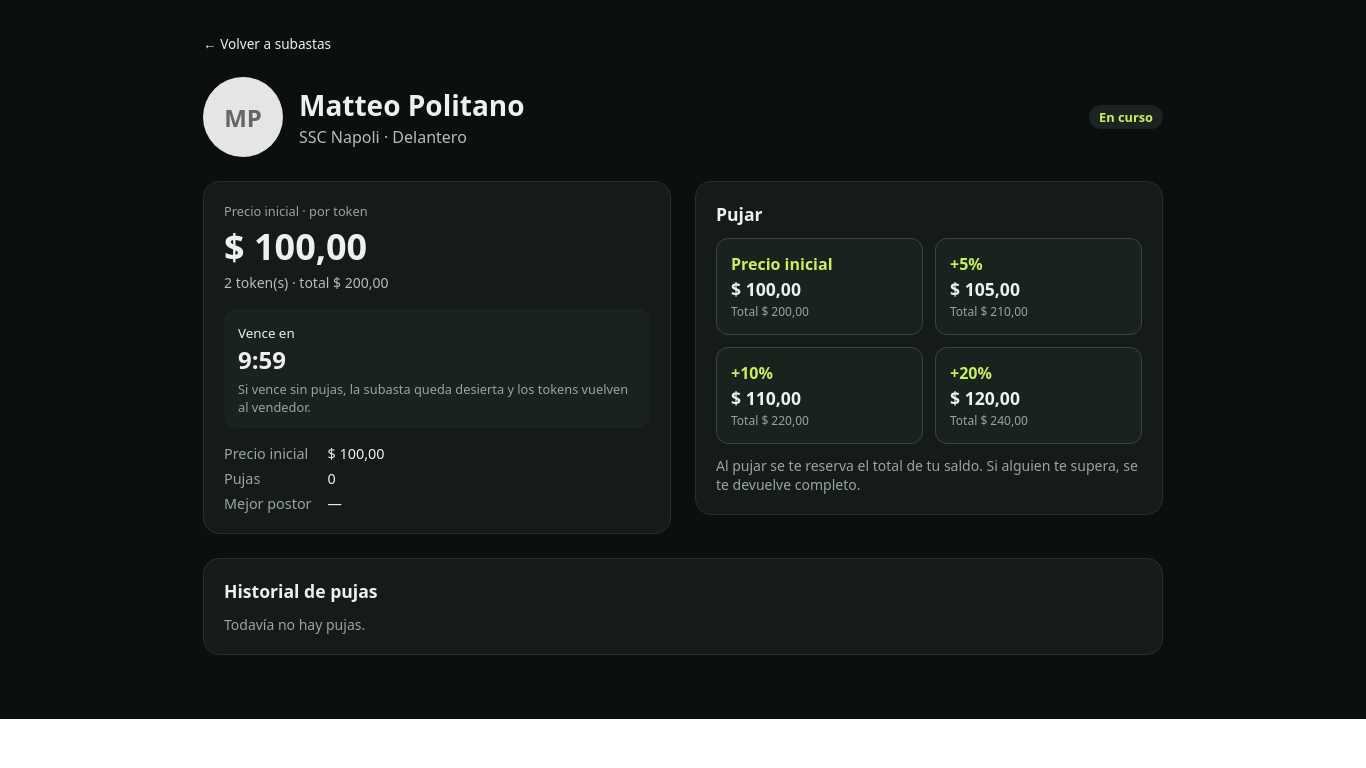
SubastaDetailPage › si la puja falla, muestra el mensaje del backend
Click the button "+5% $ 105,00 Total $ 210,00" at (1038, 286), box [935,238,1142,335]
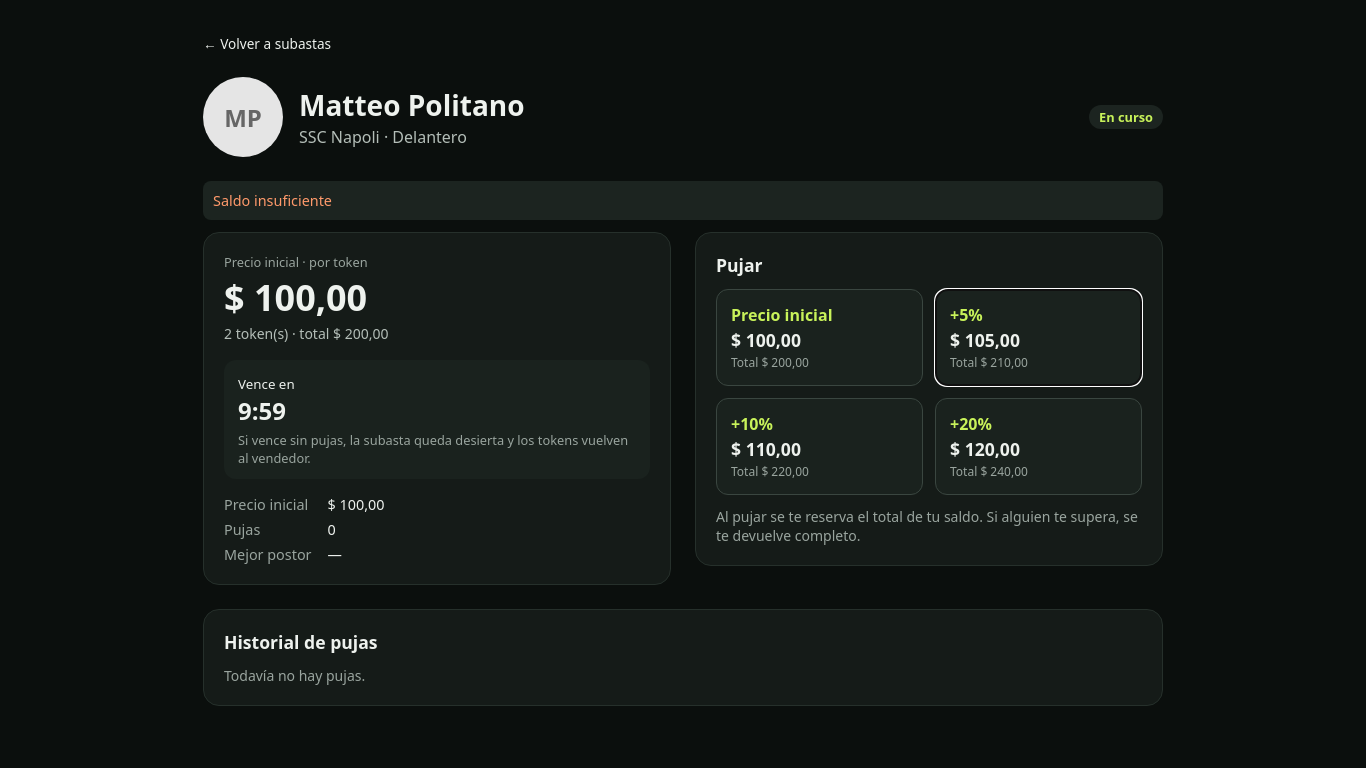
Check: the message reads "Saldo insuficiente", box [213,191,332,210]
